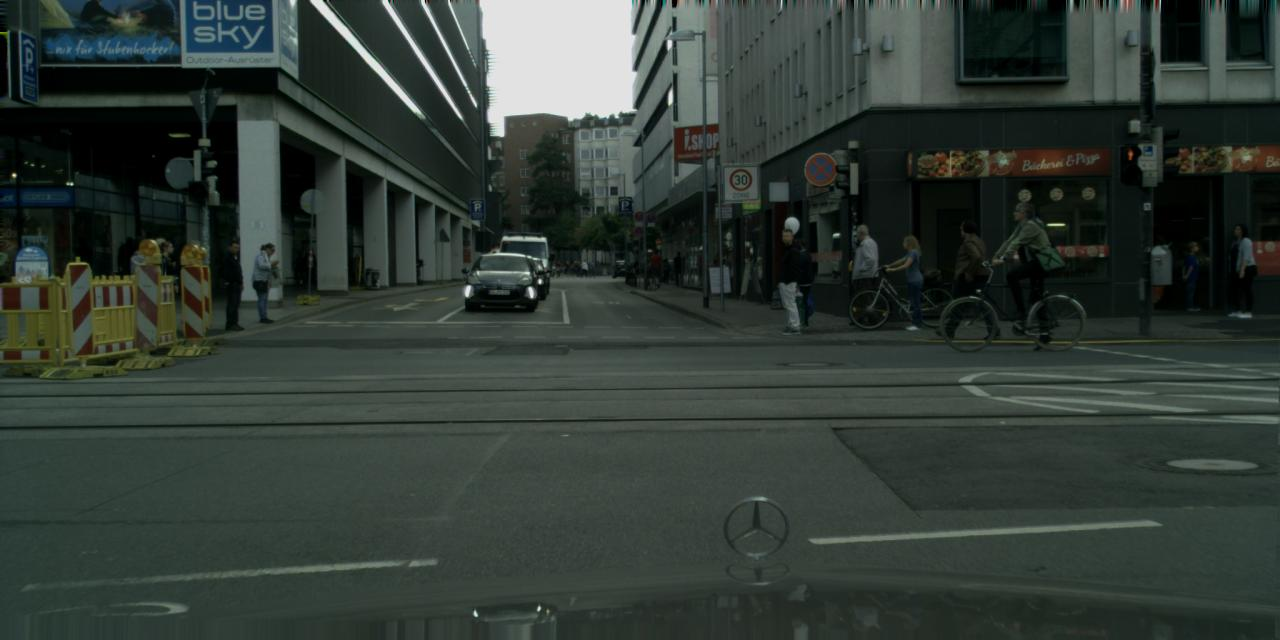ped: (1001, 201, 1055, 333), (944, 220, 992, 338), (768, 228, 811, 335), (844, 224, 884, 322), (892, 234, 932, 330), (1222, 224, 1259, 316), (1125, 218, 1162, 310), (781, 238, 818, 328), (147, 241, 183, 330), (214, 241, 250, 330), (250, 242, 282, 322), (140, 238, 172, 314), (1176, 240, 1205, 311), (130, 236, 152, 292), (118, 237, 140, 292), (302, 248, 317, 287), (672, 251, 686, 287), (291, 248, 305, 284), (648, 248, 662, 282), (660, 258, 671, 284), (579, 258, 587, 278), (587, 258, 595, 278), (632, 258, 639, 276), (574, 258, 580, 276), (568, 260, 574, 276), (550, 263, 555, 277), (555, 260, 560, 272), (564, 260, 568, 274)
